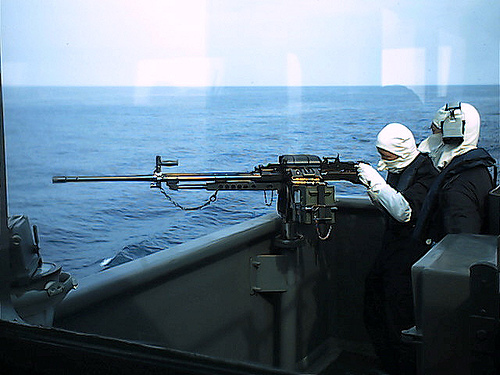rifle: (43, 149, 351, 216)
rifle in hand: (35, 138, 376, 231)
